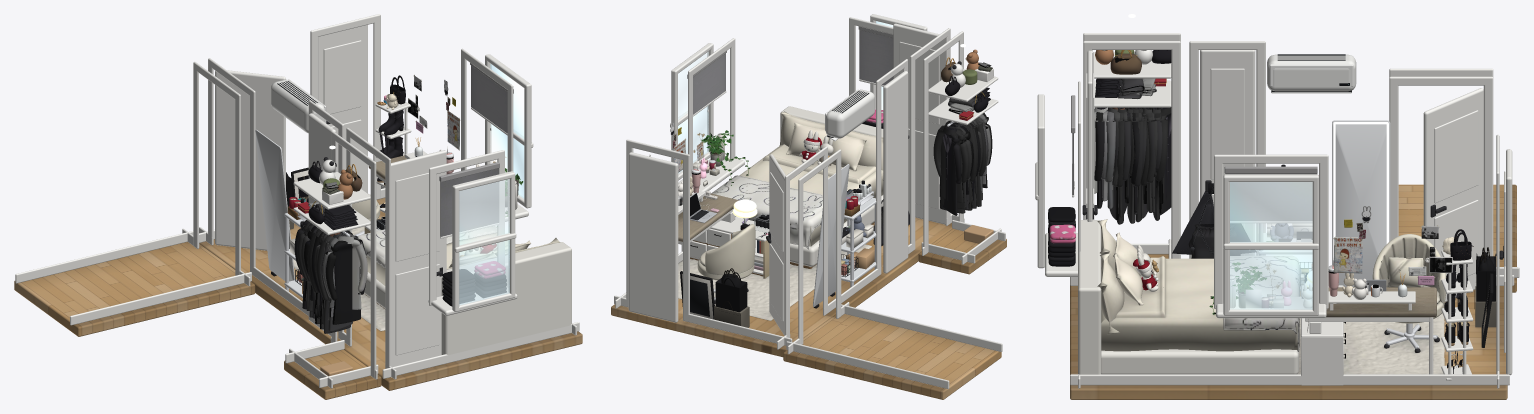
The model's file is bedroom-CjY-_ebw.glb.
3 renders of one model, left to right at view 1: azimuth 30°, elevation 25°; view 2: azimuth 150°, elevation 25°; view 3: azimuth 270°, elevation 25°, orthographic. The views are drawn at different scales.
Visible parts, largest first — view 1: Floor_hallway-ew, Window_window-bedroom-south, Closet_Contents, Door_Closet, Bed, Door_Bedroom, Floor_bedroom, Door_bathroom-door, Window_window-bedroom-east, Standing_Mirror, Shade_window-bedroom-south, Casing_bedroom-door_1 (+24 smaller); view 2: Floor_hallway-ew, Closet_Contents, Door_bathroom-door, Floor_bedroom, Door_Closet, Door_door-water-heater, Window_window-bedroom-east, Bedroom_Floor_Clutter, Blanket_Bunny, Door_Bedroom, Pillows, Duvet (+28 smaller); view 3: Window_window-bedroom-east, Closet_Contents, Duvet, Floor_bedroom, Door_Bedroom, Bed, Standing_Mirror, Door_door-water-heater, Wall_east_Base1, Rug, Shade_window-bedroom-east, Casing_bedroom-door_2 (+26 smaller).
Part boxes in pixels (x1,y1,x2,y2): Floor_hallway-ew: [14, 242, 255, 336]; Window_window-bedroom-south: [428, 150, 517, 315]; Closet_Contents: [293, 145, 370, 376]; Door_Closet: [391, 150, 446, 367]; Bed: [364, 242, 571, 355]; Door_Bedroom: [215, 70, 285, 250]; Floor_bedroom: [199, 198, 582, 390]; Door_bathroom-door: [318, 25, 367, 193]; Window_window-bedroom-east: [461, 48, 533, 221]; Standing_Mirror: [255, 129, 295, 281]; Shade_window-bedroom-south: [439, 162, 499, 238]; Casing_bedroom-door_1: [193, 61, 240, 275]; Floor_hallway-ew: [783, 314, 1001, 399]; Closet_Contents: [928, 44, 998, 243]; Door_bathroom-door: [628, 152, 678, 322]; Floor_bedroom: [611, 217, 952, 357]; Door_Closet: [893, 23, 948, 224]; Door_door-water-heater: [883, 71, 908, 273]; Window_window-bedroom-east: [670, 38, 744, 192]; Bedroom_Floor_Clutter: [680, 268, 749, 327]; Blanket_Bunny: [711, 175, 822, 249]; Door_Bedroom: [766, 154, 785, 335]; Pillows: [779, 111, 883, 180]; Duvet: [739, 144, 883, 246]; Window_window-bedroom-east: [1214, 154, 1328, 318]; Closet_Contents: [1092, 14, 1171, 224]; Duvet: [1101, 256, 1297, 351]; Floor_bedroom: [1070, 285, 1507, 399]; Door_Bedroom: [1423, 88, 1483, 302]; Bed: [1078, 220, 1298, 374]; Standing_Mirror: [1332, 120, 1390, 287]; Door_door-water-heater: [1200, 50, 1255, 255]; Wall_east_Base1: [1070, 374, 1509, 385]; Rug: [1297, 313, 1444, 374]; Shade_window-bedroom-east: [1224, 166, 1317, 229]; Casing_bedroom-door_2: [1389, 76, 1493, 256].
Bounding box in the file's own units: 4.85 × 2.72 × 4.56.
301 materials, 77 textured.
